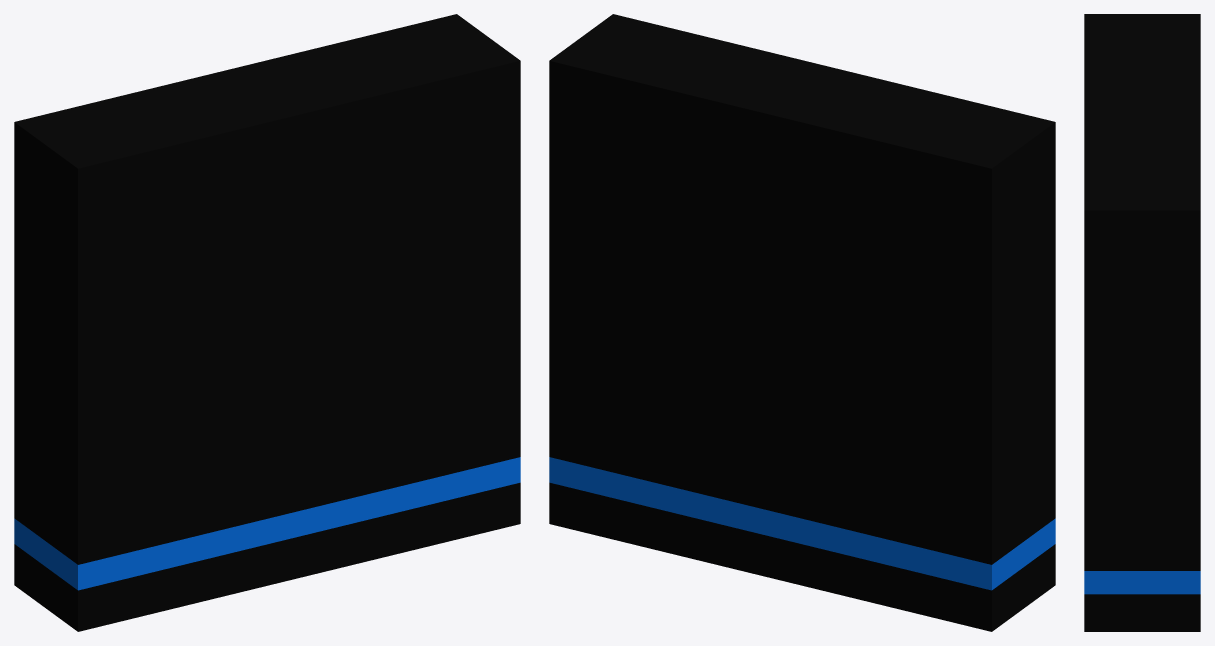
The model's file is wall.FBX.
3 renders of one model, left to right at view 1: azimuth 30°, elevation 25°; view 2: azimuth 150°, elevation 25°; view 3: azimuth 270°, elevation 25°, orthographic. The views are drawn at different scales.
Parts seen in each view (by area): view 1: Box001; view 2: Box001; view 3: Box001.
Boxes of the visible parts, x1,y1,x2,y2 form: Box001: (14,14,520,631); Box001: (549,14,1055,631); Box001: (1084,14,1200,631).
Size of the model in its own units: 2000 by 2000 by 500.
